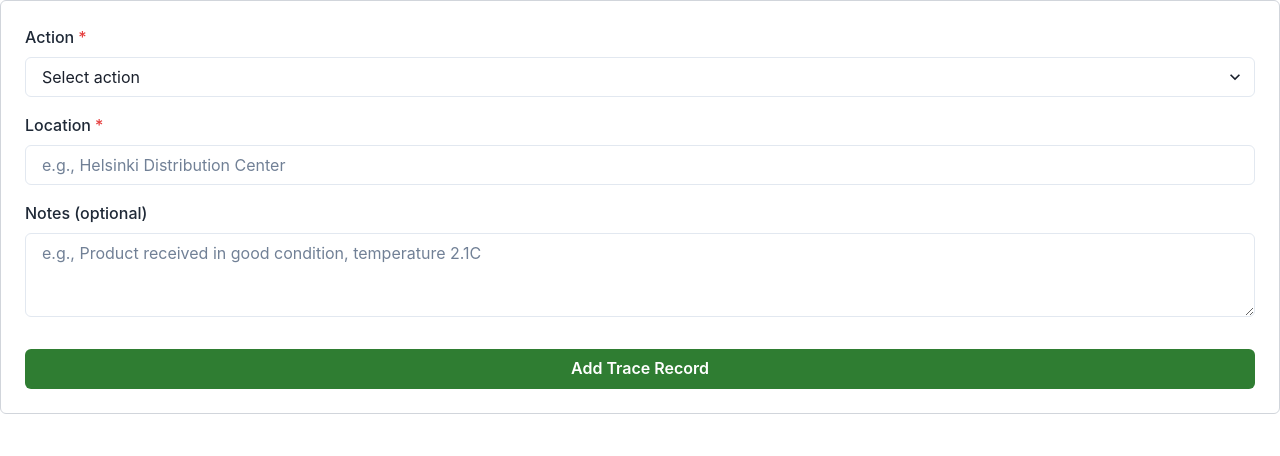
Test: TraceRecordForm › Submission › should handle API validation errors
// Fill form
Select "Received" in the dropdown at (640, 77), box [25,57,1255,97]
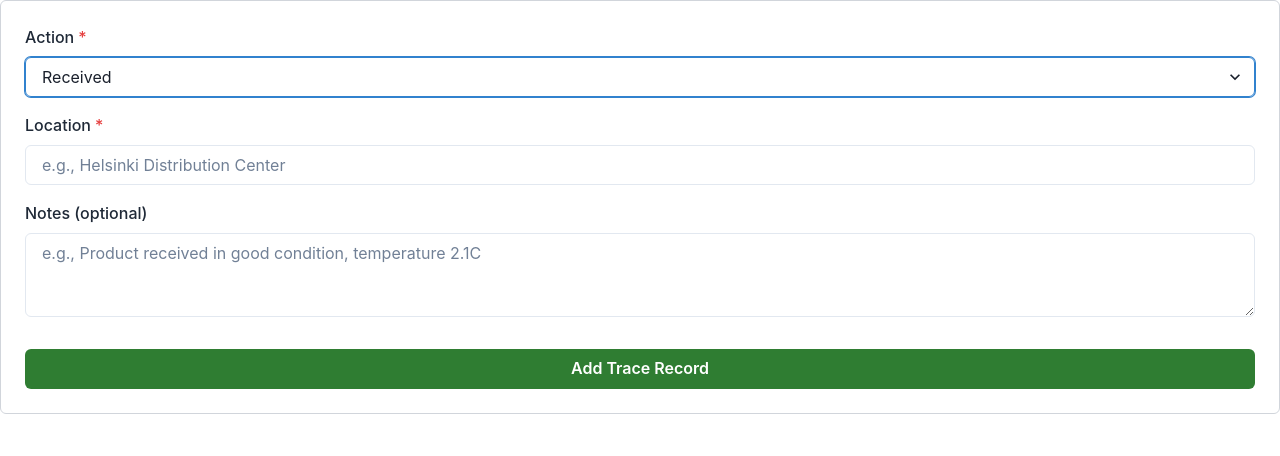
Type "Test" into the field with placeholder "e.g., Helsinki Distribution Center" at (640, 165), box [25,145,1255,185]
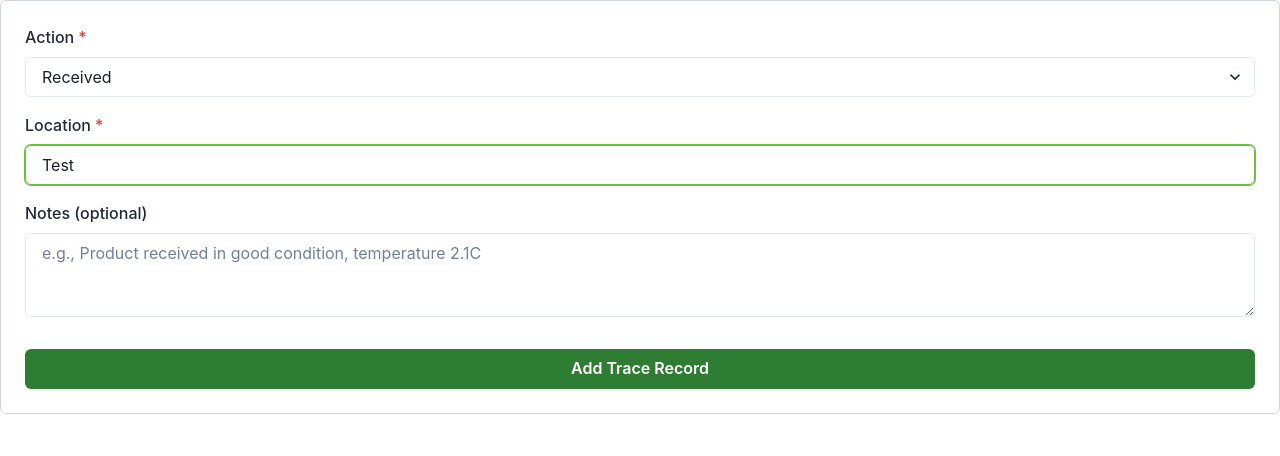
Click the button "Add Trace Record" at (640, 369), box [25,349,1255,389]
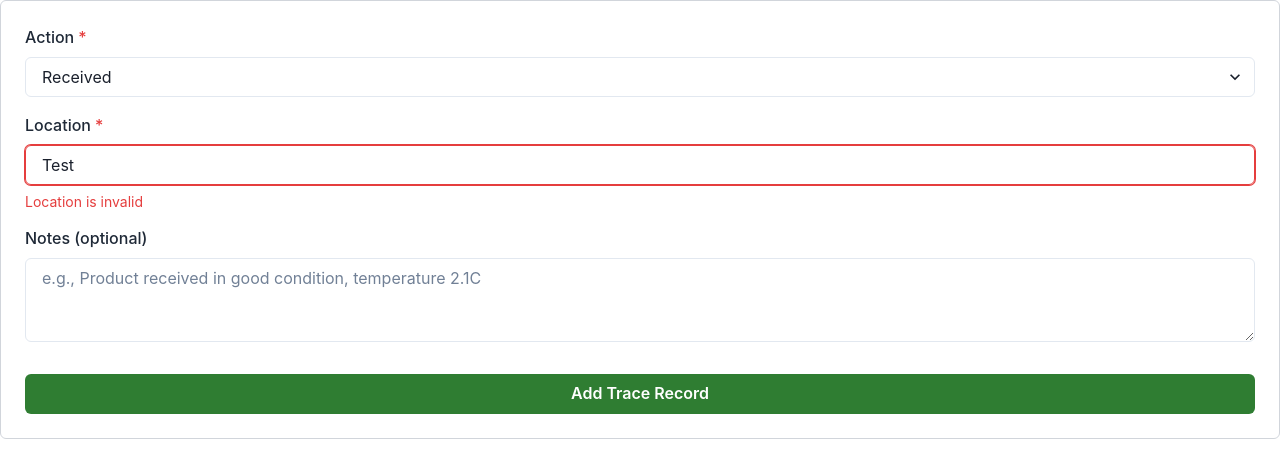
Expected: the text "Location is invalid" is shown, [25,193,143,210]
